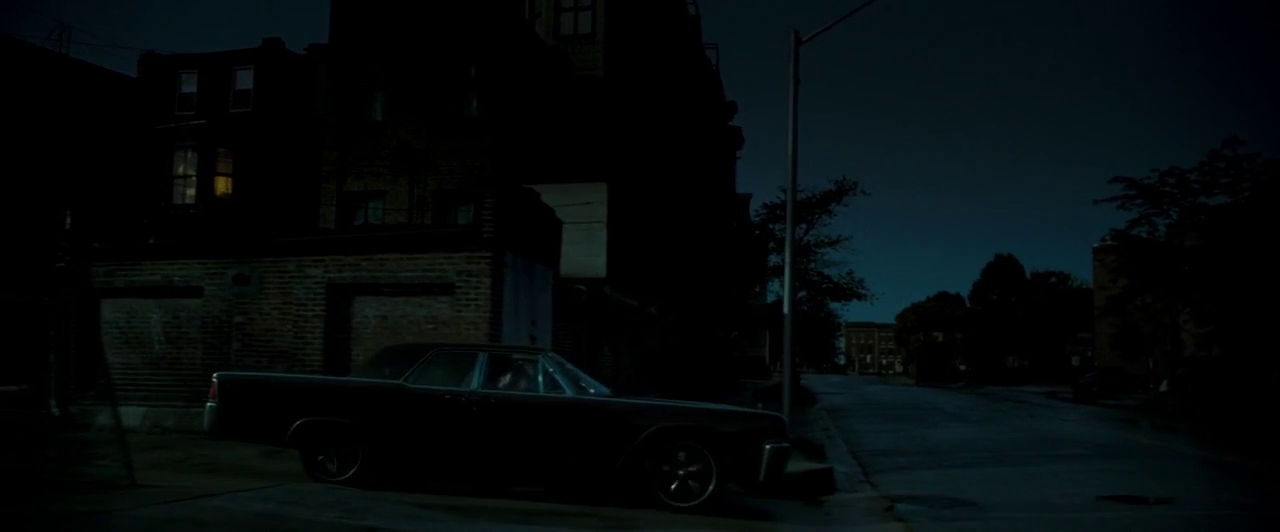car: (188, 337, 801, 515)
